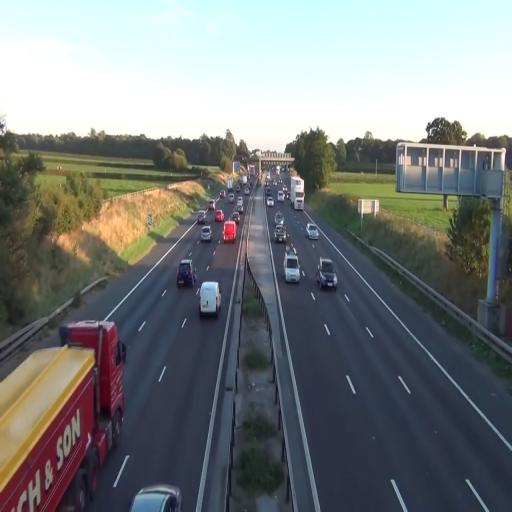vehicle: (0, 317, 126, 509), (130, 485, 181, 512), (198, 280, 221, 320), (318, 257, 338, 290), (284, 251, 302, 284), (176, 258, 195, 289), (290, 176, 305, 208), (290, 177, 305, 208), (274, 215, 287, 244), (223, 220, 236, 244), (199, 224, 212, 242), (306, 222, 319, 238)
